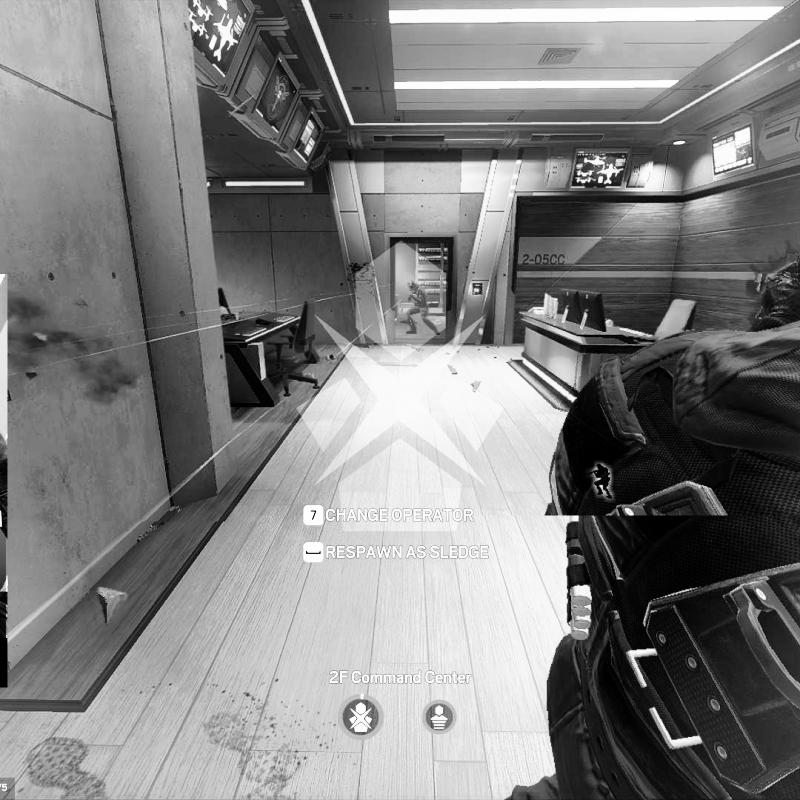Character: (511, 247, 800, 800), (402, 278, 444, 337)
Head: (759, 257, 800, 329), (407, 280, 418, 292)
